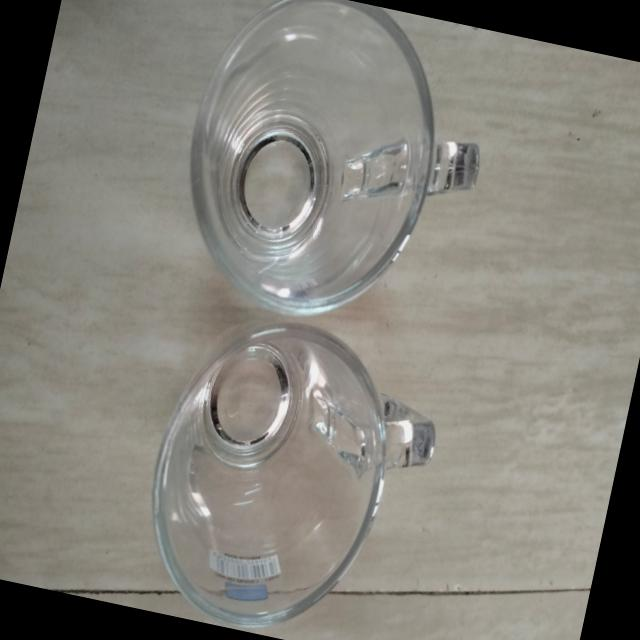glass-VX4N: (159, 0, 511, 342), (120, 299, 467, 640)
